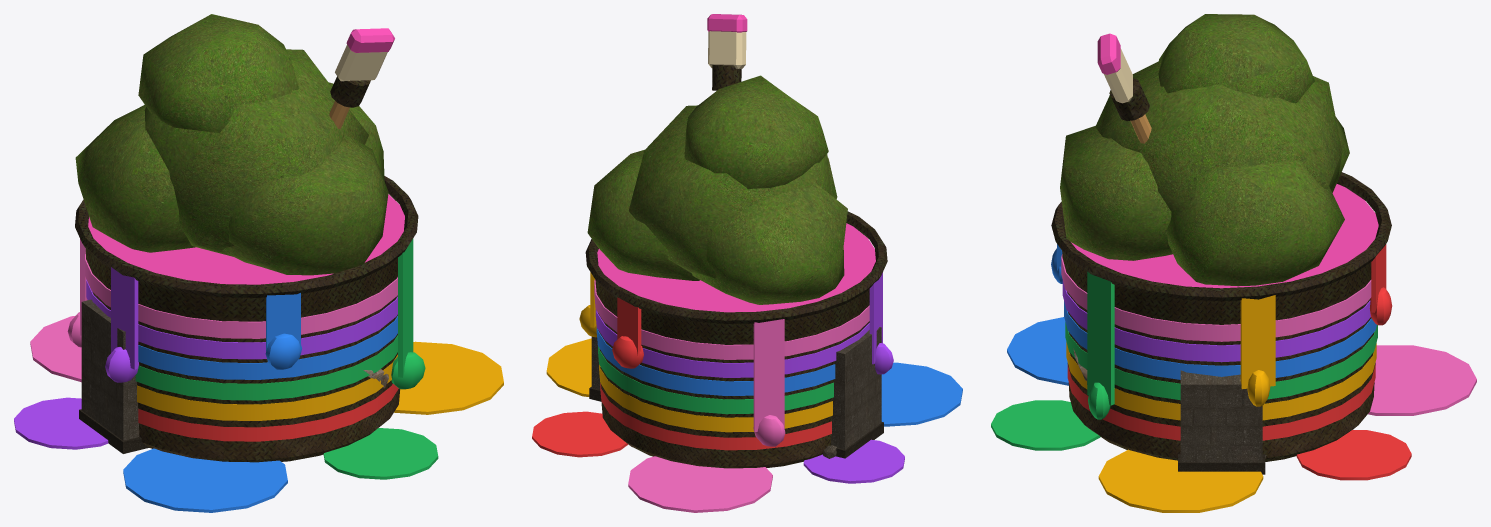
File: arena.glb
3 renders of one model, left to right at view 1: azimuth 30°, elevation 25°; view 2: azimuth 150°, elevation 25°; view 3: azimuth 270°, elevation 25°, orthographic. The views are drawn at different scales.
Parts seen in each view (by area): view 1: tower, tree, wall; view 2: tower, tree, wall; view 3: tower, tree, wall.
Boxes of the visible parts, box(x1,y1,x2,y2) form: tower: box(14, 28, 503, 512); tree: box(75, 14, 388, 275); wall: box(79, 299, 148, 453); tower: box(532, 14, 962, 512); tree: box(587, 75, 847, 304); wall: box(589, 327, 883, 458); tower: box(991, 33, 1476, 512); tree: box(1060, 14, 1349, 286); wall: box(1178, 370, 1266, 474).
Size of the model in its own units: 5.95 by 5.37 by 5.91.
26 materials, 11 textured.
